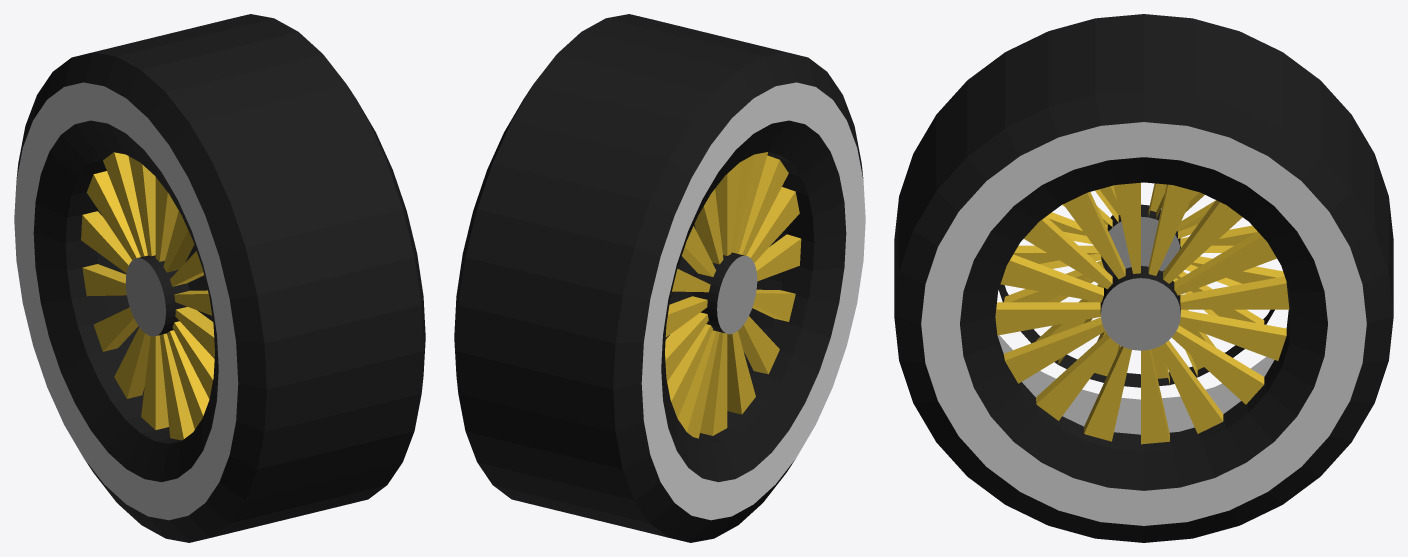
The model's file is Roues.fbx.
3 renders of one model, left to right at view 1: azimuth 30°, elevation 25°; view 2: azimuth 150°, elevation 25°; view 3: azimuth 270°, elevation 25°, orthographic.
Parts seen in each view (by area): view 1: Cylinder; view 2: Cylinder; view 3: Cylinder.
Part boxes in pixels (x1,y1,x2,y2): Cylinder: [14, 14, 425, 542]; Cylinder: [454, 14, 865, 542]; Cylinder: [894, 14, 1393, 542].
Size of the model in its own units: 86.26 by 200 by 200.
